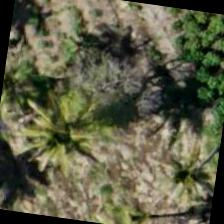Kelapa_Sawit: (9, 85, 111, 187), (133, 123, 222, 223), (0, 42, 61, 139)
